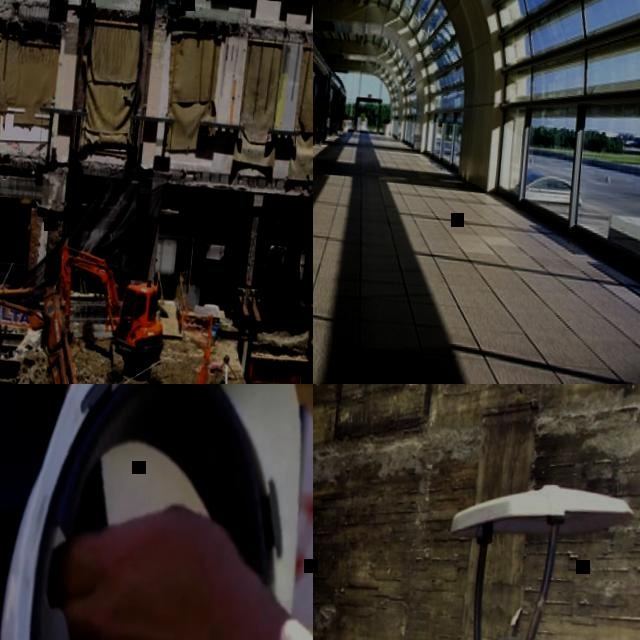Hardhat: (0, 384, 313, 640)
Person: (24, 384, 313, 640)
Safety Cone: (203, 313, 215, 362)
machinery: (390, 473, 640, 640), (48, 240, 174, 384), (0, 285, 122, 384), (190, 236, 300, 308)
